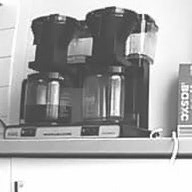not empty coffee: (17, 69, 78, 127)
